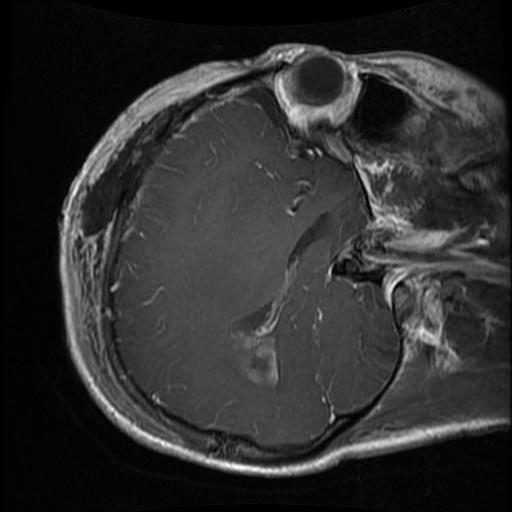glioma: (226, 206, 336, 389)
